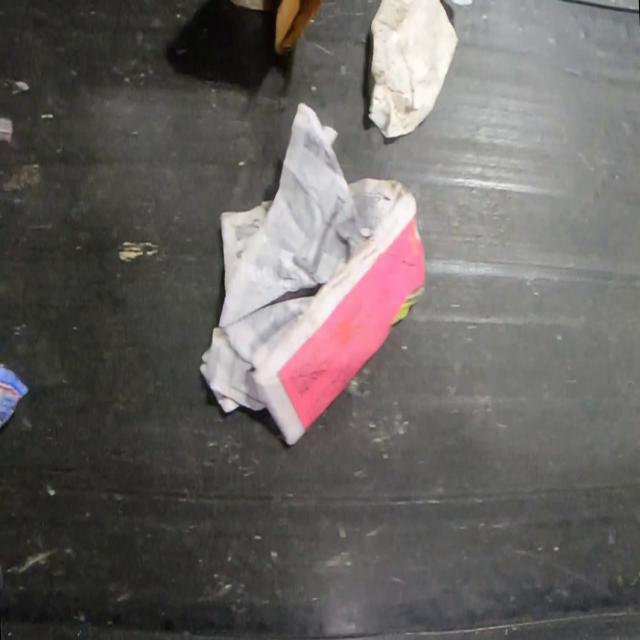cardboard: (230, 0, 323, 59)
